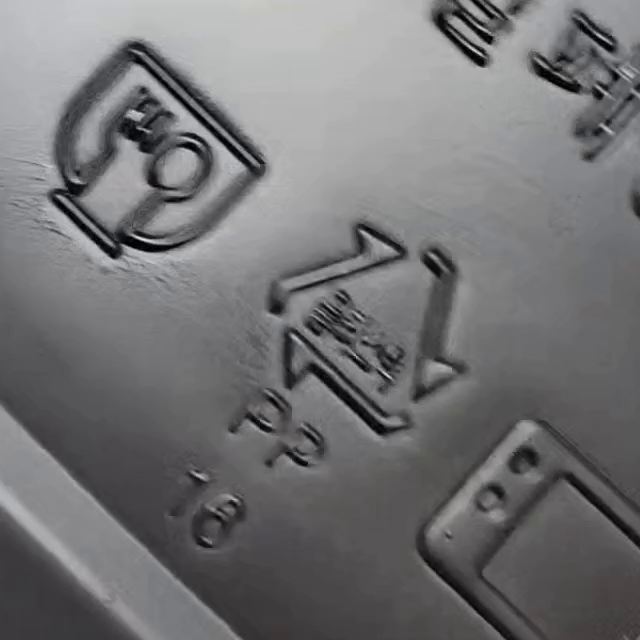Plastic: (267, 222, 468, 438)
